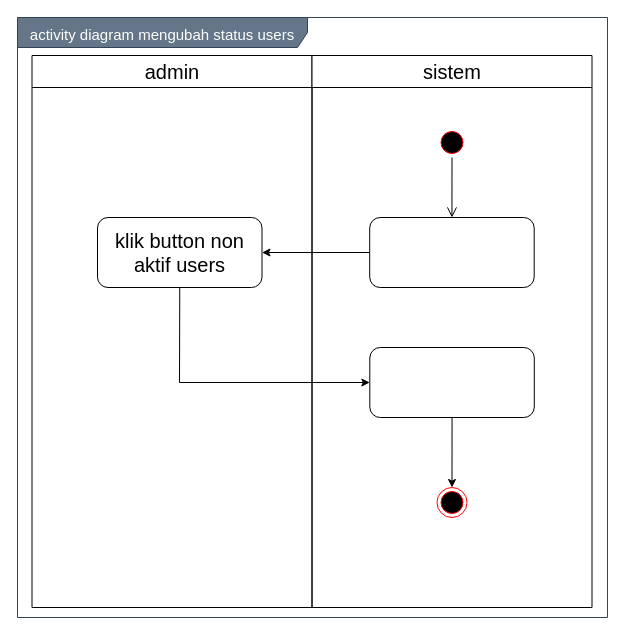
Some shapes in this 625 by 635 pixel diagram are drawn without their labels. Here are the shapes that lost their labels. From the top down, the centre of each, then its label:
At [451,252]: "menampilkan data users".
At [451,382]: "status users menjadi tidak aktif".
